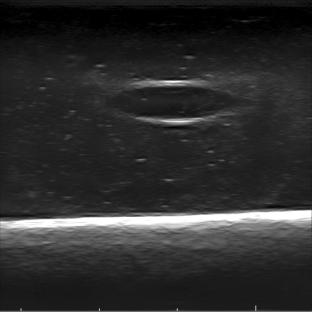vessel: (107, 79, 239, 125)
